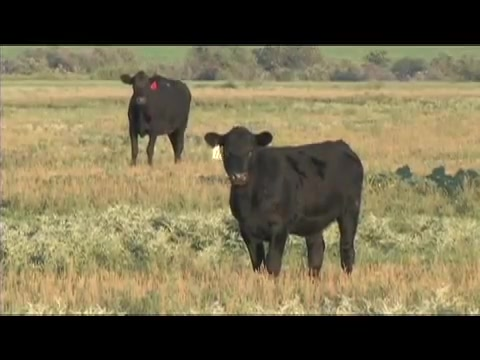cow: (203, 125, 365, 278), (119, 71, 194, 170)
